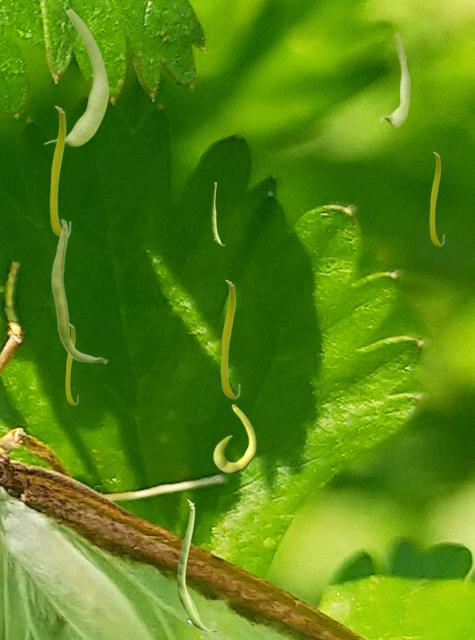french_bean: (43, 7, 108, 145), (50, 218, 107, 363), (177, 499, 217, 631), (213, 404, 255, 472), (49, 105, 70, 237), (380, 32, 409, 126), (220, 279, 239, 398), (429, 151, 443, 245), (65, 324, 77, 404), (211, 182, 224, 244)
